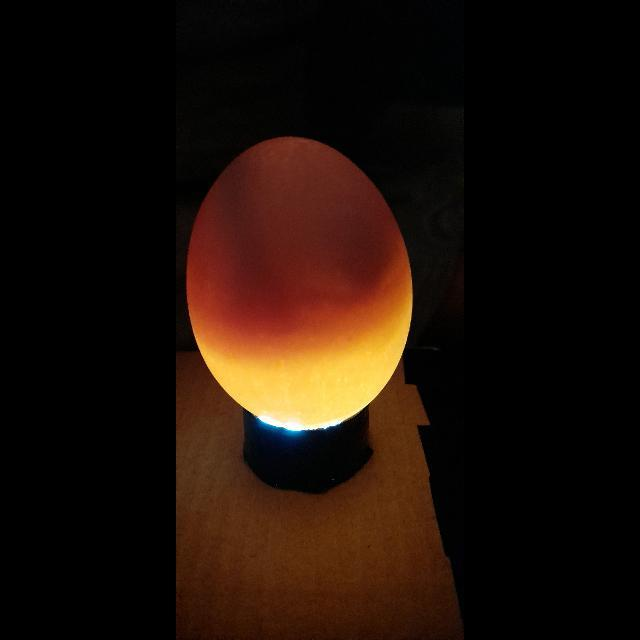Infertile: (188, 130, 412, 426)
